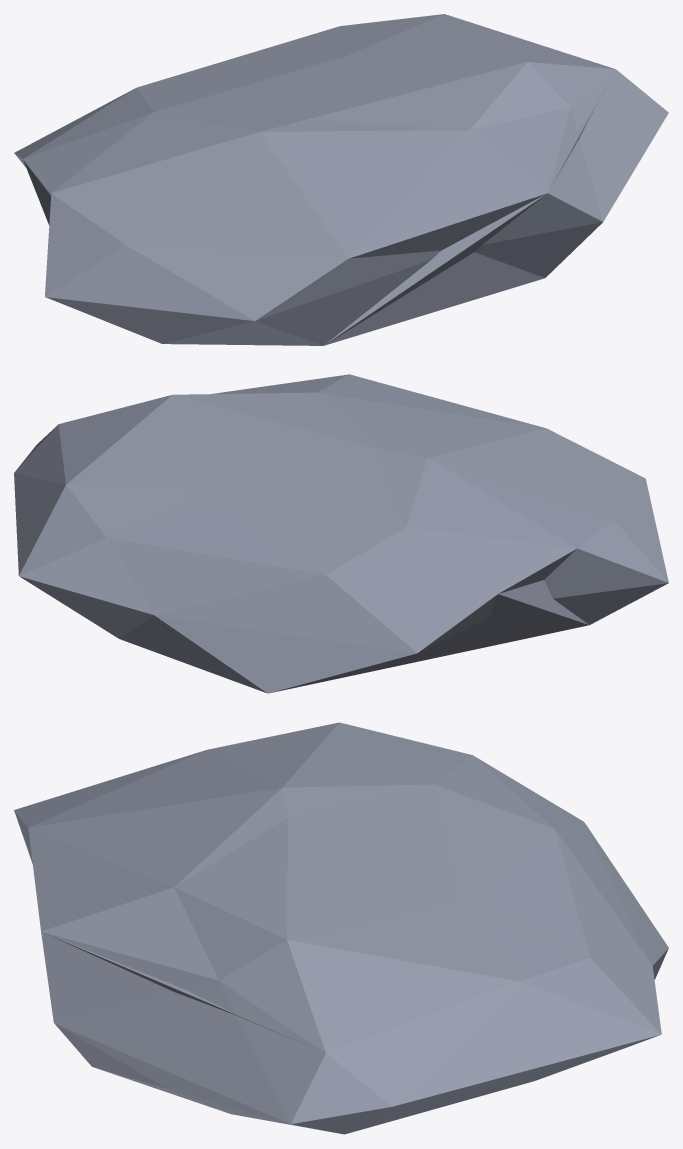
File: env_rock_market_a.glb
3 renders of one model, top to bottom at view 1: azimuth 30°, elevation 25°; view 2: azimuth 150°, elevation 25°; view 3: azimuth 270°, elevation 25°, orthographic. The views are drawn at different scales.
Visible parts, largest first — view 1: lod0__rock_a, lod1__rock_a; view 2: lod0__rock_a, lod1__rock_a; view 3: lod0__rock_a, lod1__rock_a.
Boxes of the visible parts, <box> form: lod0__rock_a: <box>14,14,668,345</box>; lod1__rock_a: <box>23,77,611,344</box>; lod0__rock_a: <box>14,374,668,693</box>; lod1__rock_a: <box>271,580,589,692</box>; lod0__rock_a: <box>14,722,668,1134</box>; lod1__rock_a: <box>45,933,313,1047</box>.
Bounding box in the file's own units: 4.17 × 1.06 × 3.1.
